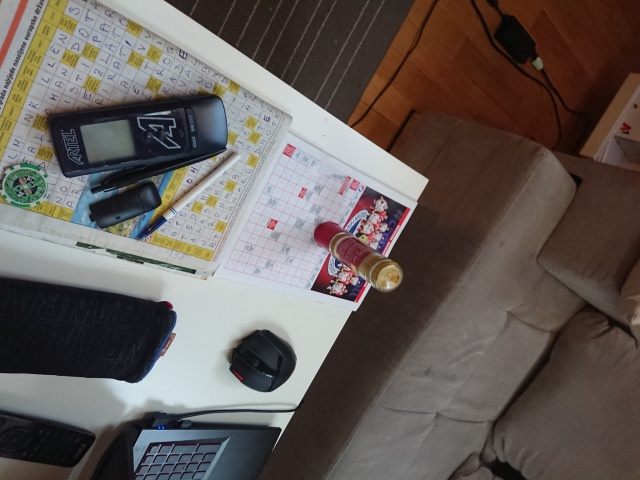Kotanyi Curry Spices Mix 70g: (312, 220, 406, 294)
